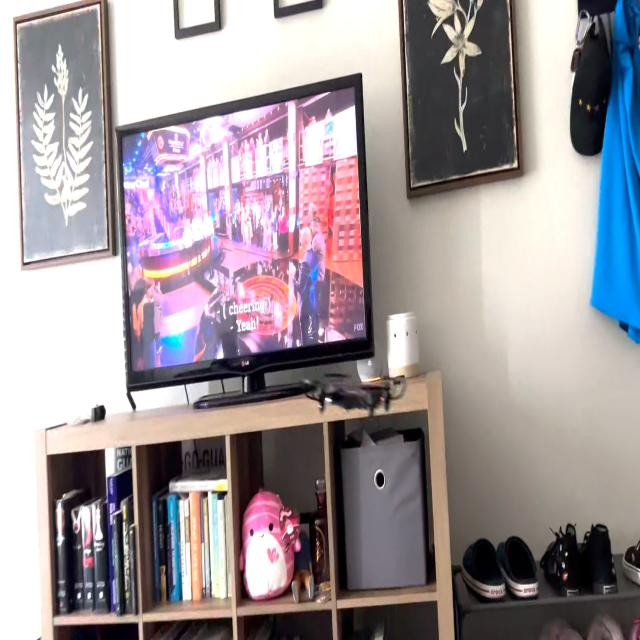drone: (300, 359, 412, 432)
